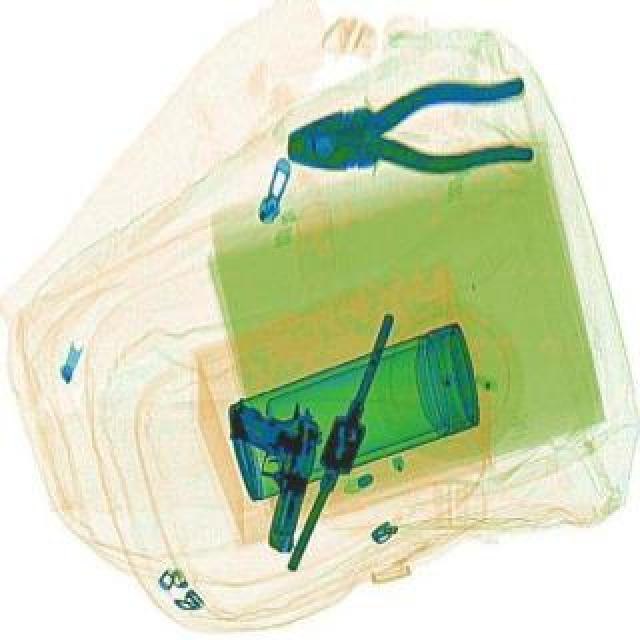gun: (198, 390, 326, 552)
wrench: (280, 68, 538, 196)
